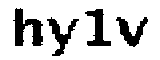1: (82, 5, 113, 50)
h: (8, 6, 43, 49)
v: (115, 12, 149, 55)
y: (46, 14, 77, 60)
